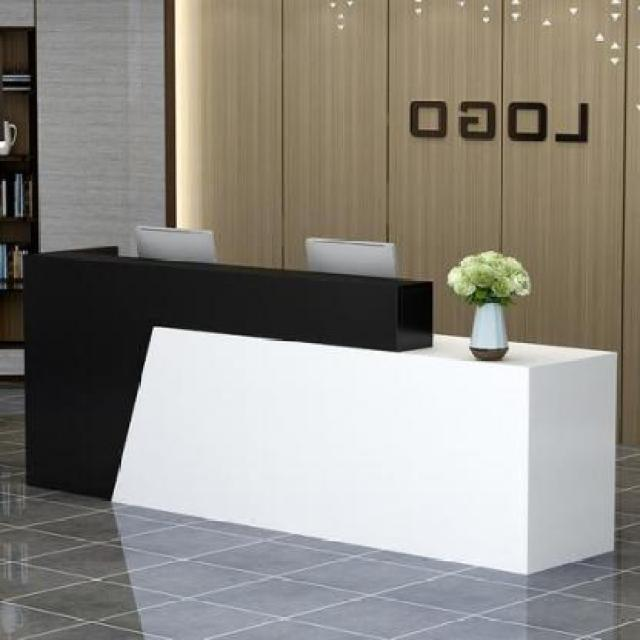frontdesk: (11, 232, 637, 576)
